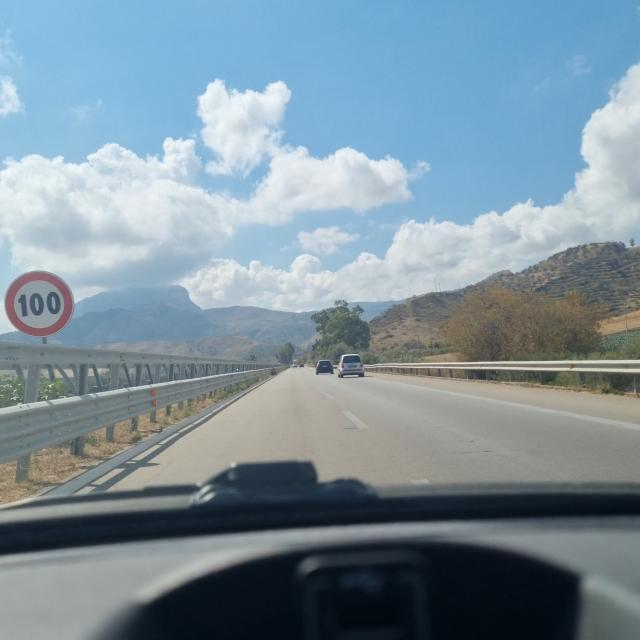forb_speed_over_100: (4, 270, 76, 339)
